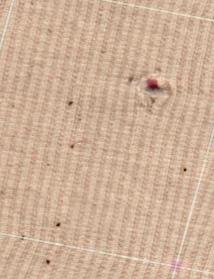hole: (130, 69, 176, 109)
stain: (36, 253, 62, 274), (174, 161, 198, 181), (64, 136, 82, 161), (47, 214, 68, 235), (61, 96, 79, 112)
